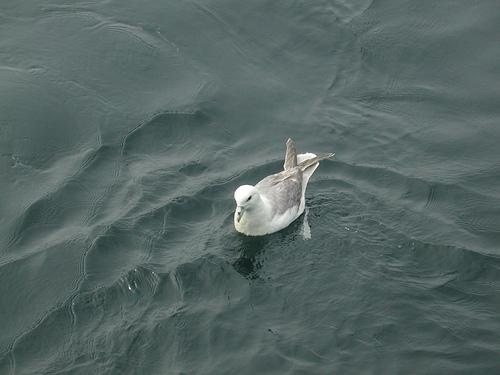bird: (227, 139, 333, 231)
